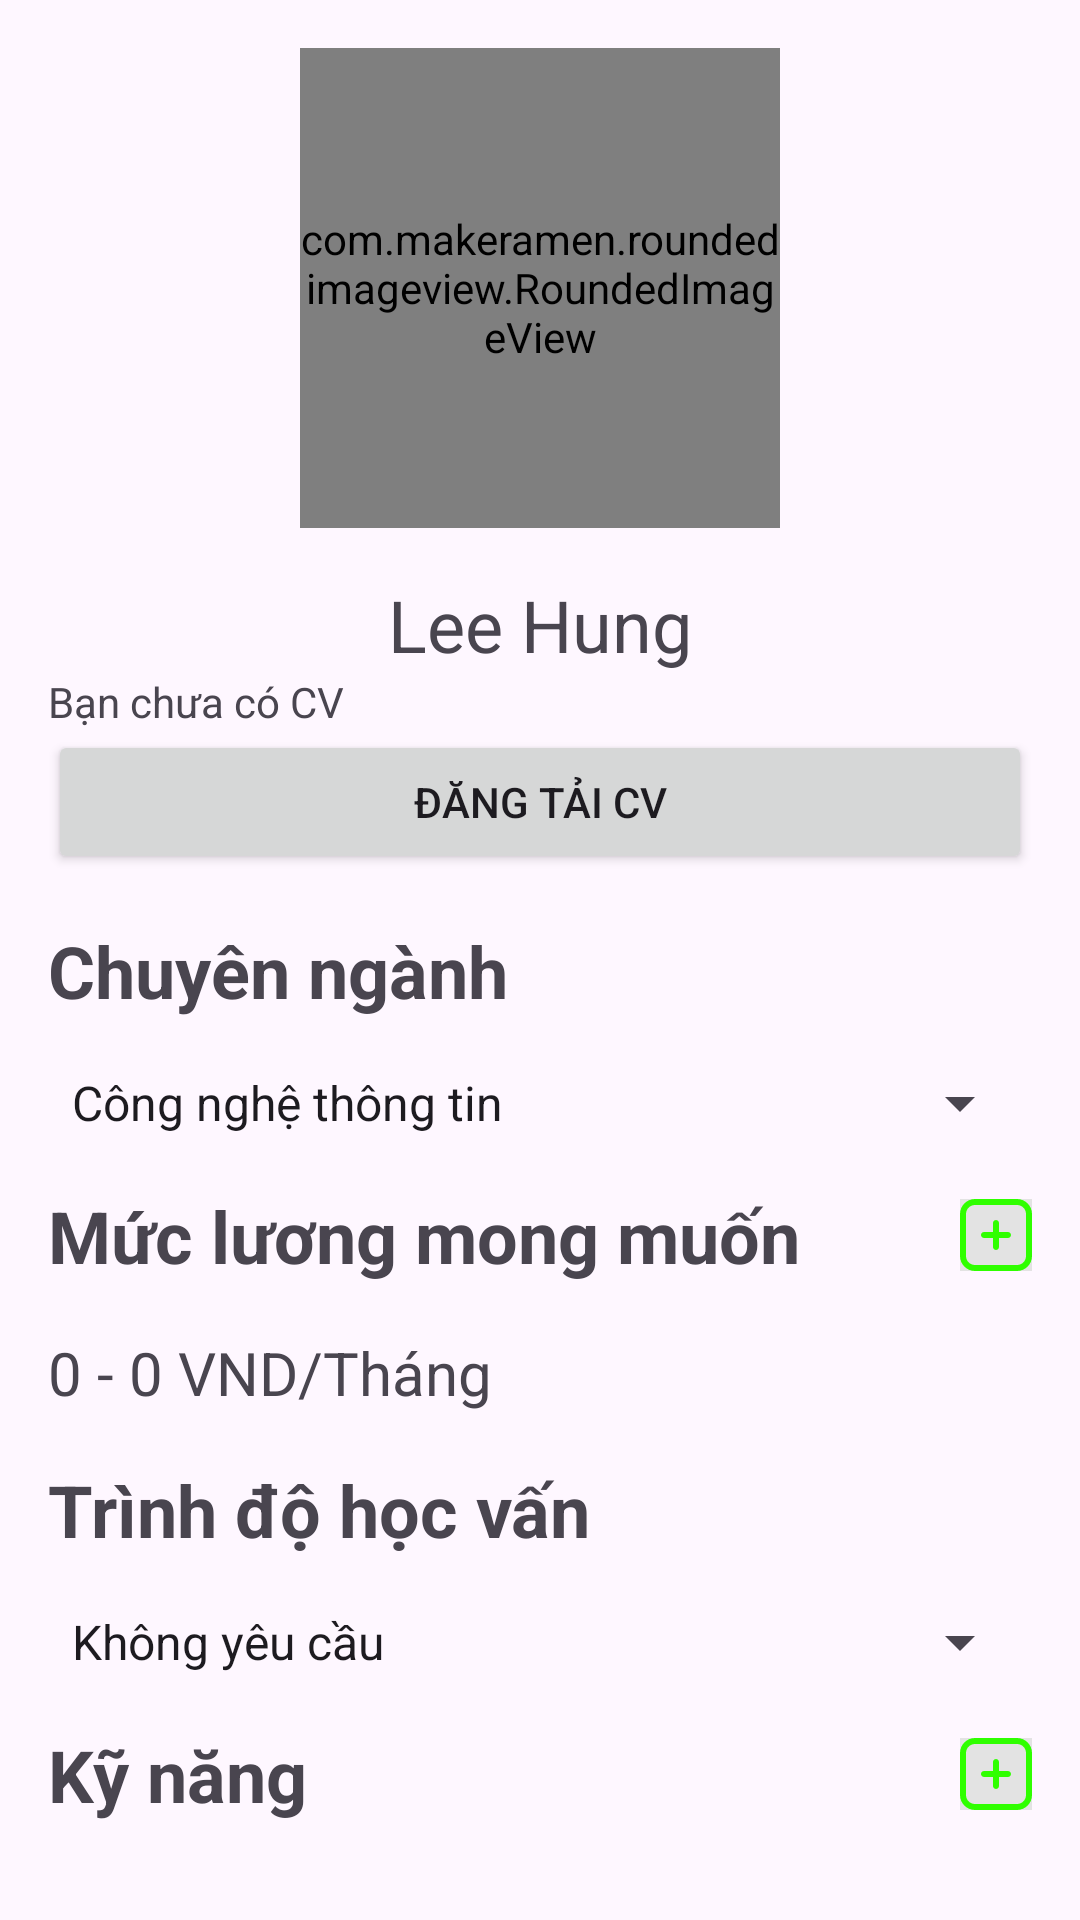

Screen size 1080px×1920px. Icon name, then its box in pixels as detection(x1, y1, x2, y2):
square plus: detection(960, 1199, 1032, 1271), detection(960, 1738, 1032, 1810)
